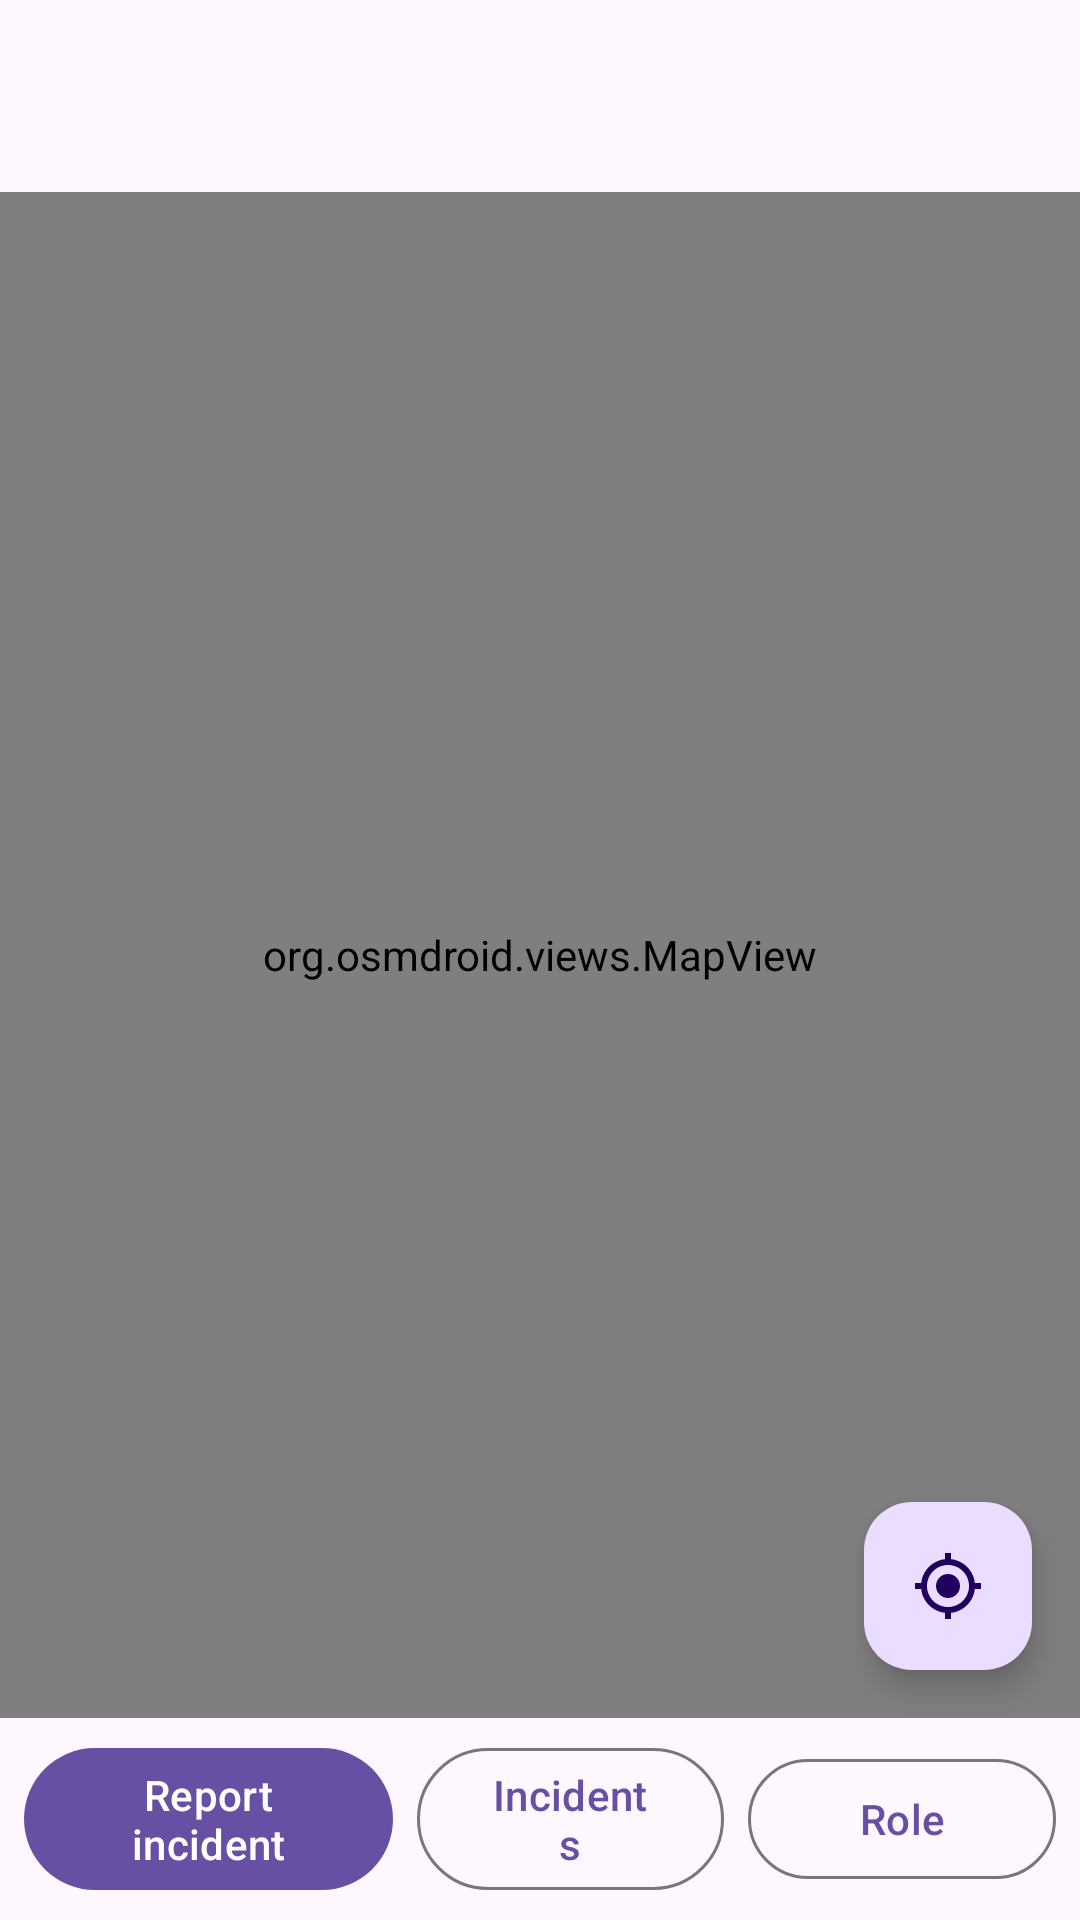

Icons on this 1080x1920 Android screen, each with its box as {"x1": x1, "y1": y1, "x2": x2, "y2": y2}:
Center on my position: {"x1": 864, "y1": 1502, "x2": 1032, "y2": 1670}
